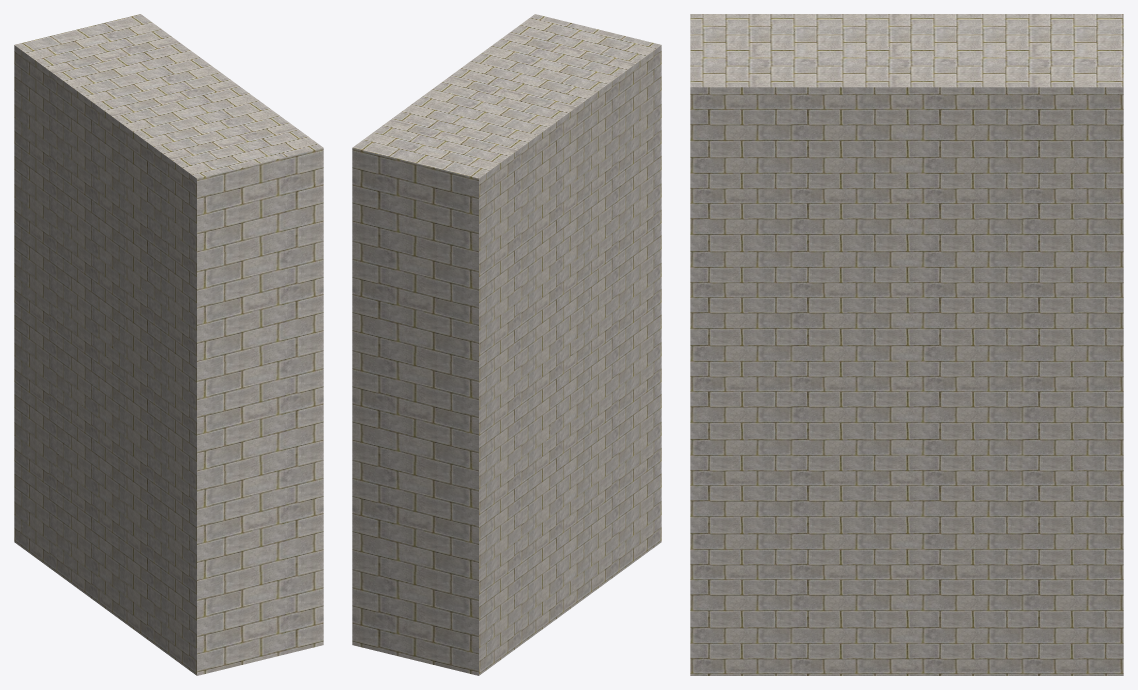
Rendered from Stone_Stairs_Flat.fbx.
3 renders of one model, left to right at view 1: azimuth 30°, elevation 25°; view 2: azimuth 150°, elevation 25°; view 3: azimuth 270°, elevation 25°, orthographic. The views are drawn at different scales.
Visible parts, largest first — view 1: pasted__pCube1; view 2: pasted__pCube1; view 3: pasted__pCube1.
Boxes of the visible parts, box(x1,y1,x2,y2) form: pasted__pCube1: box(14, 14, 323, 675); pasted__pCube1: box(352, 14, 661, 675); pasted__pCube1: box(690, 14, 1123, 675).
Bounding box in the file's own units: 4 × 15 × 10.
1 material, 1 textured.
